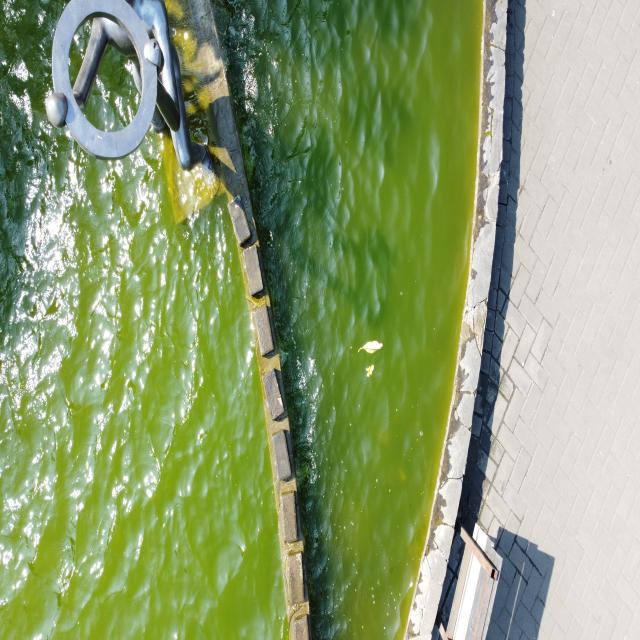Ponds: (189, 1, 510, 640), (1, 1, 303, 640)
